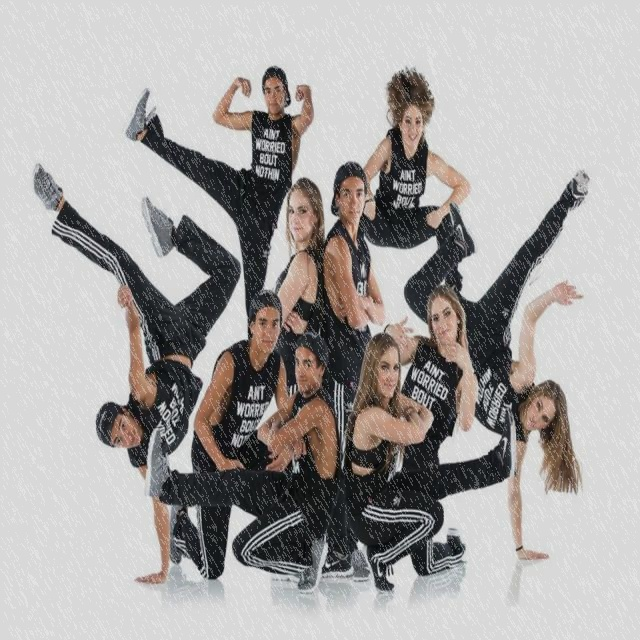pessoa: (29, 158, 245, 592), (401, 163, 593, 564), (120, 64, 316, 341), (143, 328, 342, 595), (340, 329, 523, 602), (165, 287, 298, 584), (354, 64, 476, 313), (318, 158, 388, 585), (382, 282, 479, 578), (270, 178, 323, 368)
